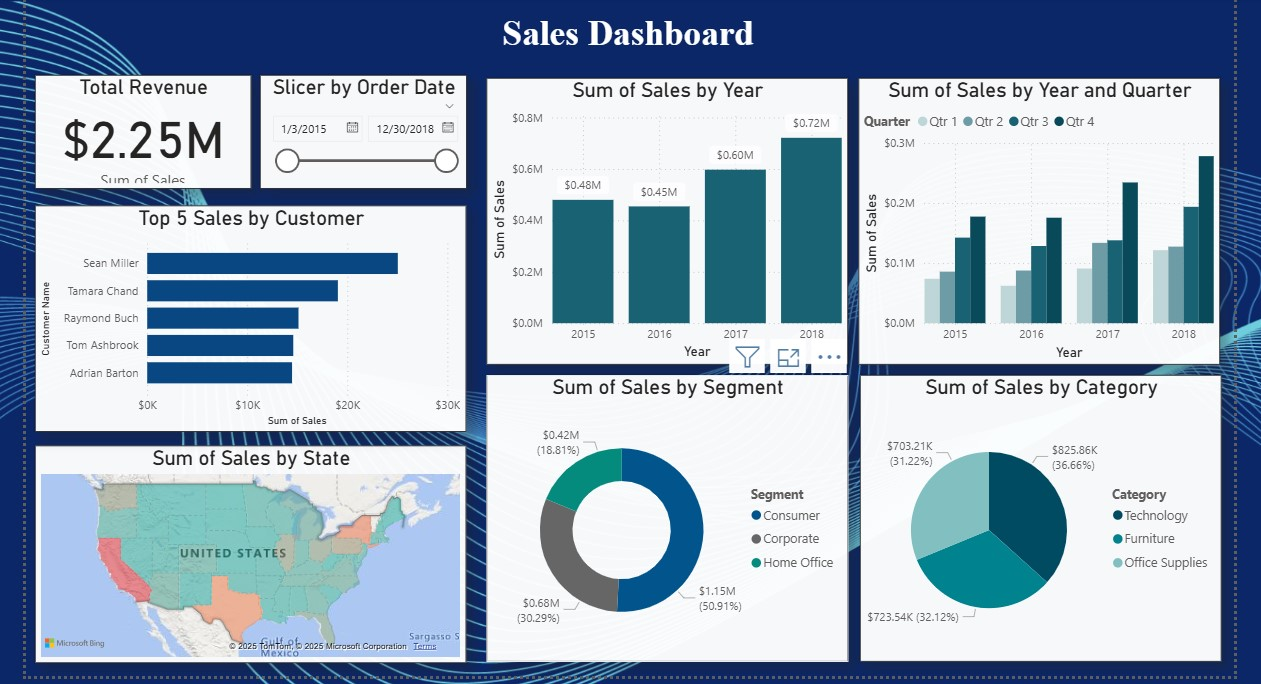

The page's visual inventory and layout, read from the dashboard file:
{"tool":"powerbi","page":{"name":"Page 1","canvas":[1280,720],"ordinal":0},"visuals":[{"type":"textbox","box":[9.5,11.1,1258.2,57.3],"z":0},{"type":"card","title":"Total Revenue","fields":{"Values":["superstore_sales.Sales"]},"box":[9.5,82.7,229,120.9],"z":1000},{"type":"slicer","title":"Slicer by Order Date","fields":{"Values":["superstore_sales.Order Date"]},"box":[248.1,82.7,219.5,120.9],"z":2000},{"type":"lineStackedColumnComboChart","fields":{"Category":["superstore_sales.Order Date.Variation.Date Hierarchy.Year","superstore_sales.Order Date.Variation.Date Hierarchy.Quarter","superstore_sales.Order Date.Variation.Date Hierarchy.Month","superstore_sales.Order Date.Variation.Date Hierarchy.Day"],"Y":["superstore_sales.Sales"]},"box":[488.3,85.9,383,304],"z":3000},{"type":"clusteredColumnChart","fields":{"Category":["superstore_sales.Year"],"Series":["superstore_sales.Quarter"],"Y":["superstore_sales.Sales"]},"box":[882.8,85.9,383,304],"z":4000},{"type":"filledMap","fields":{"Category":["superstore_sales.State"]},"box":[9.4,476.2,457.3,230.6],"z":5000},{"type":"donutChart","fields":{"Y":["superstore_sales.Sales"],"Category":["superstore_sales.Segment"]},"box":[487.6,400.6,383.6,304.3],"z":6000},{"type":"pieChart","fields":{"Category":["superstore_sales.Category"],"Y":["superstore_sales.Sales"]},"box":[884.4,400.6,383.6,304.3],"z":7000},{"type":"barChart","title":"Top 5 Sales by Customer","fields":{"Category":["superstore_sales.Customer Name"],"Y":["superstore_sales.Sales"]},"box":[9.4,221.1,457.3,240],"z":8000}]}

Visuals, with their boxes in screenshot pixels (x1, y1, x2, y2):
textbox: bbox=[35, 7, 1212, 61]
"Total Revenue" card: bbox=[35, 74, 249, 187]
"Slicer by Order Date" slicer: bbox=[258, 74, 464, 187]
lineStackedColumnComboChart - superstore_sales.Order Date.Variation.Date Hierarchy.Year x superstore_sales.Order Date.Variation.Date Hierarchy.Quarter: bbox=[483, 77, 841, 361]
clusteredColumnChart - superstore_sales.Year x superstore_sales.Quarter: bbox=[852, 77, 1210, 361]
filledMap - superstore_sales.State: bbox=[35, 442, 463, 658]
donutChart - superstore_sales.Sales x superstore_sales.Segment: bbox=[482, 372, 841, 656]
pieChart - superstore_sales.Category x superstore_sales.Sales: bbox=[854, 372, 1213, 656]
"Top 5 Sales by Customer" barChart: bbox=[35, 204, 463, 428]
